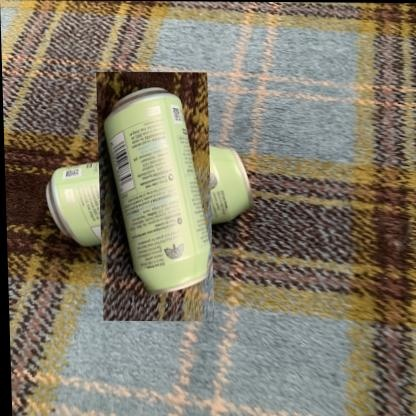trash: (104, 88, 210, 291), (46, 162, 100, 245), (46, 162, 100, 245), (209, 146, 251, 223), (210, 146, 251, 223)
